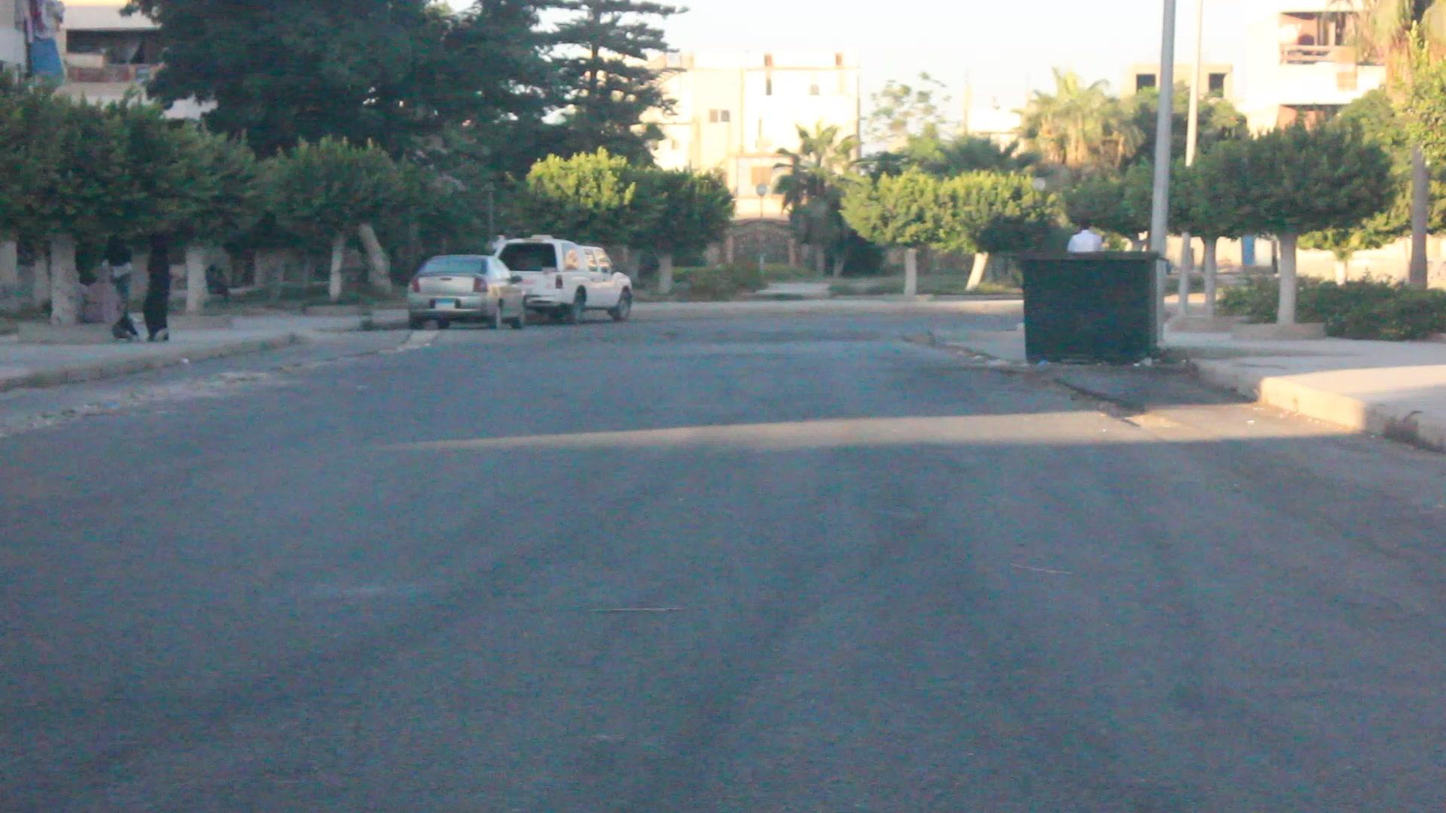Bump: (394, 329, 913, 341)
